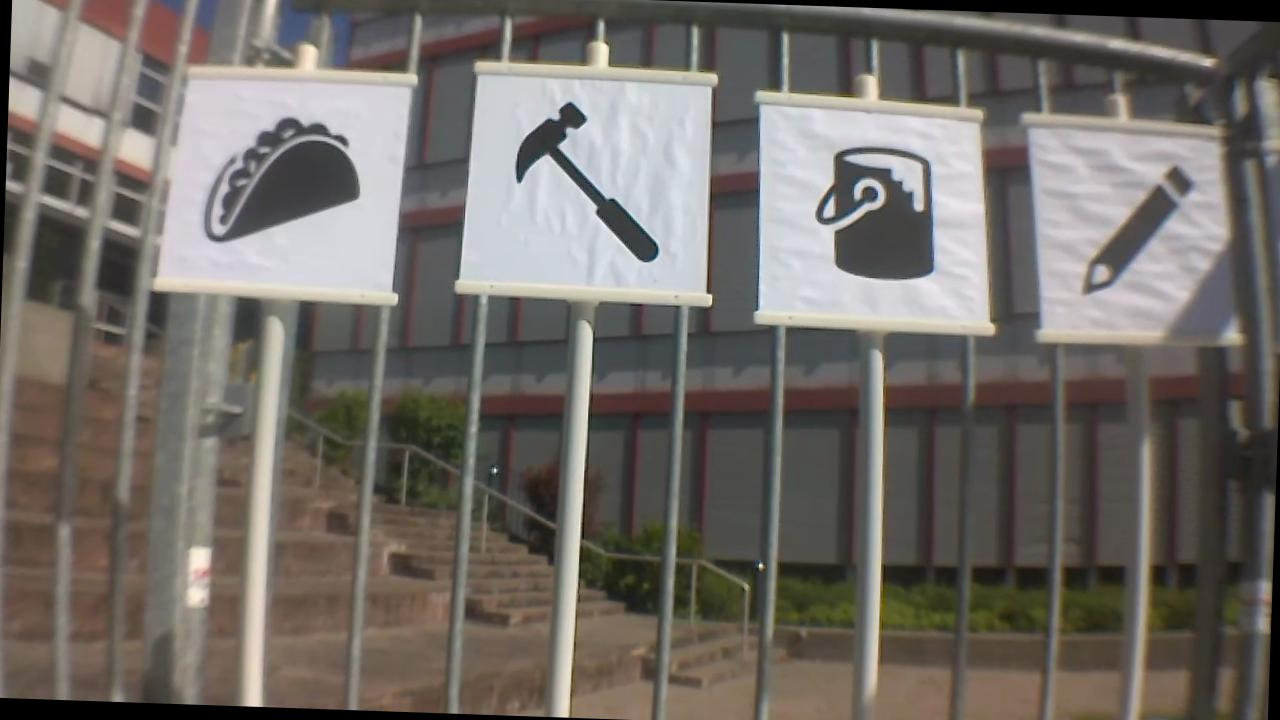bucket: (813, 146, 943, 289)
hammer: (491, 78, 675, 268)
pencil: (1060, 154, 1200, 302)
taco: (196, 100, 367, 251)
